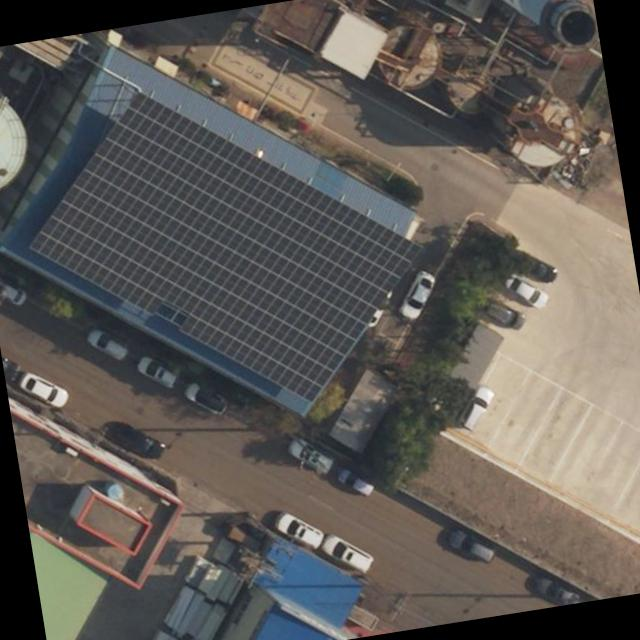solar: (8, 51, 444, 444)
